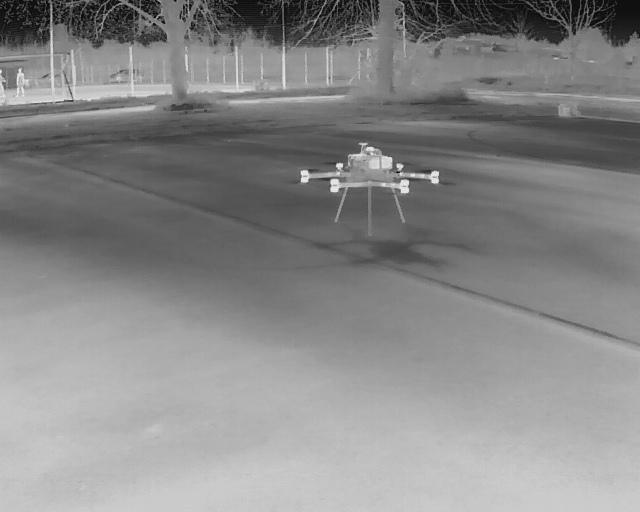drone: (297, 134, 441, 240)
